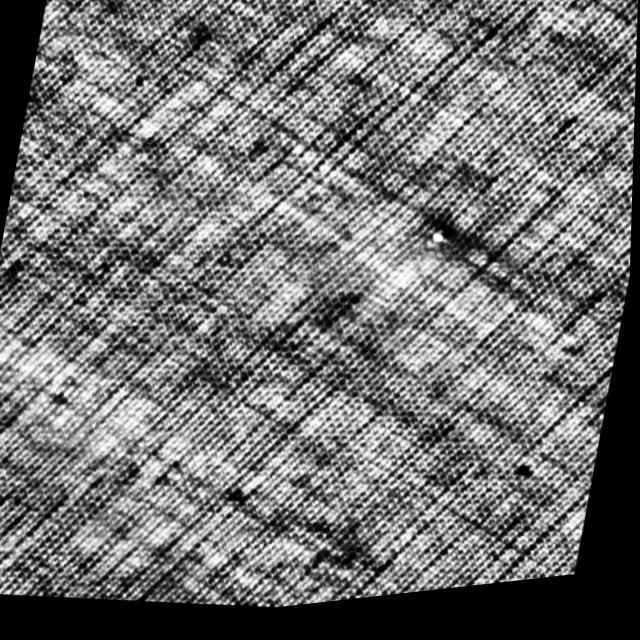Hole: (420, 225, 463, 264)
